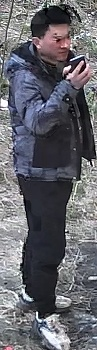phone: (22, 9, 92, 136)
